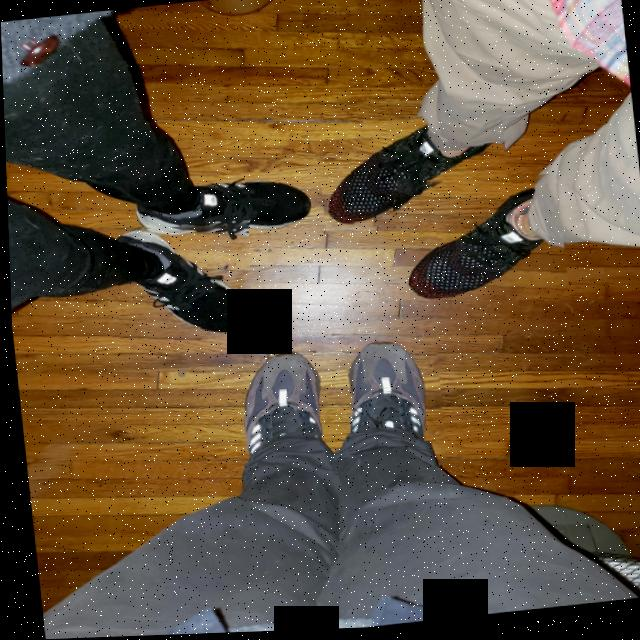shoe: (387, 171, 567, 316), (312, 110, 512, 236), (98, 217, 258, 350), (123, 167, 325, 258), (323, 330, 446, 478), (229, 341, 341, 482)
